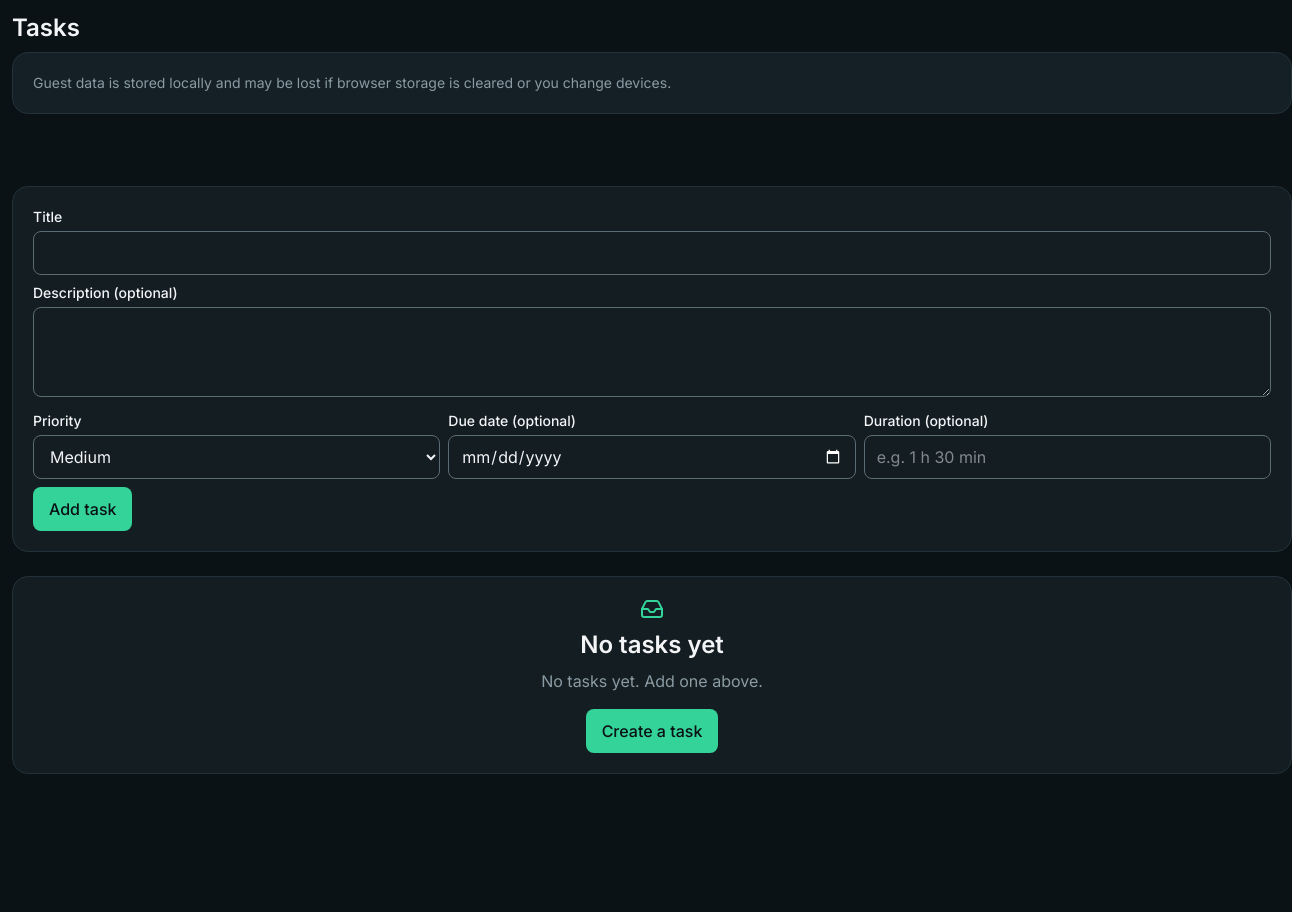
task completion › toggles a task to completed, preserves metadata, and announces it
The width and height of the screenshot is (1292, 912).
In the field labelled "Title": coordinates (652, 253) [33,231,1271,275], type "Complete me"
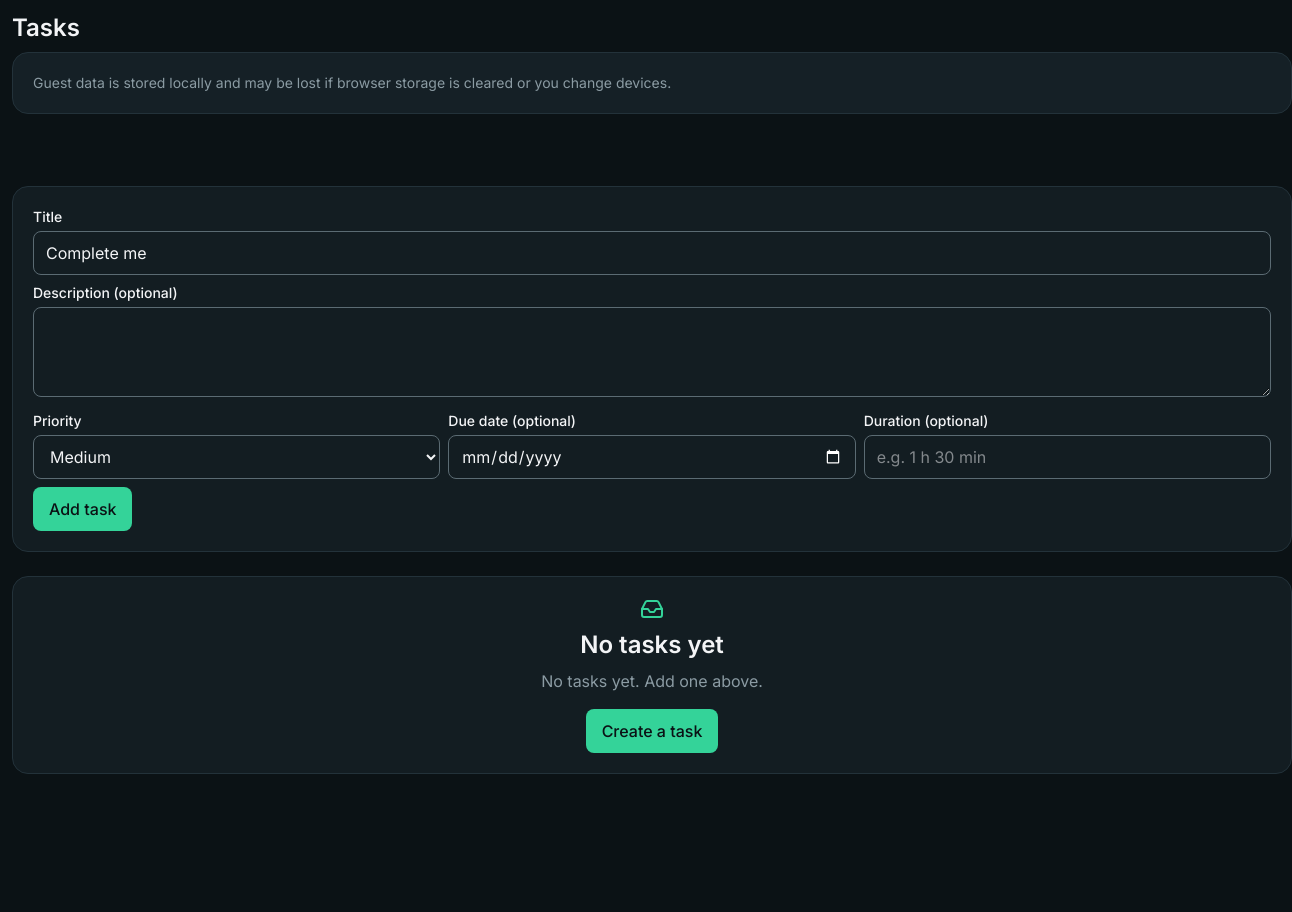
In the text box labelled "Description (optional)": coordinates (652, 352) [33,307,1271,397], type "Keep this description"
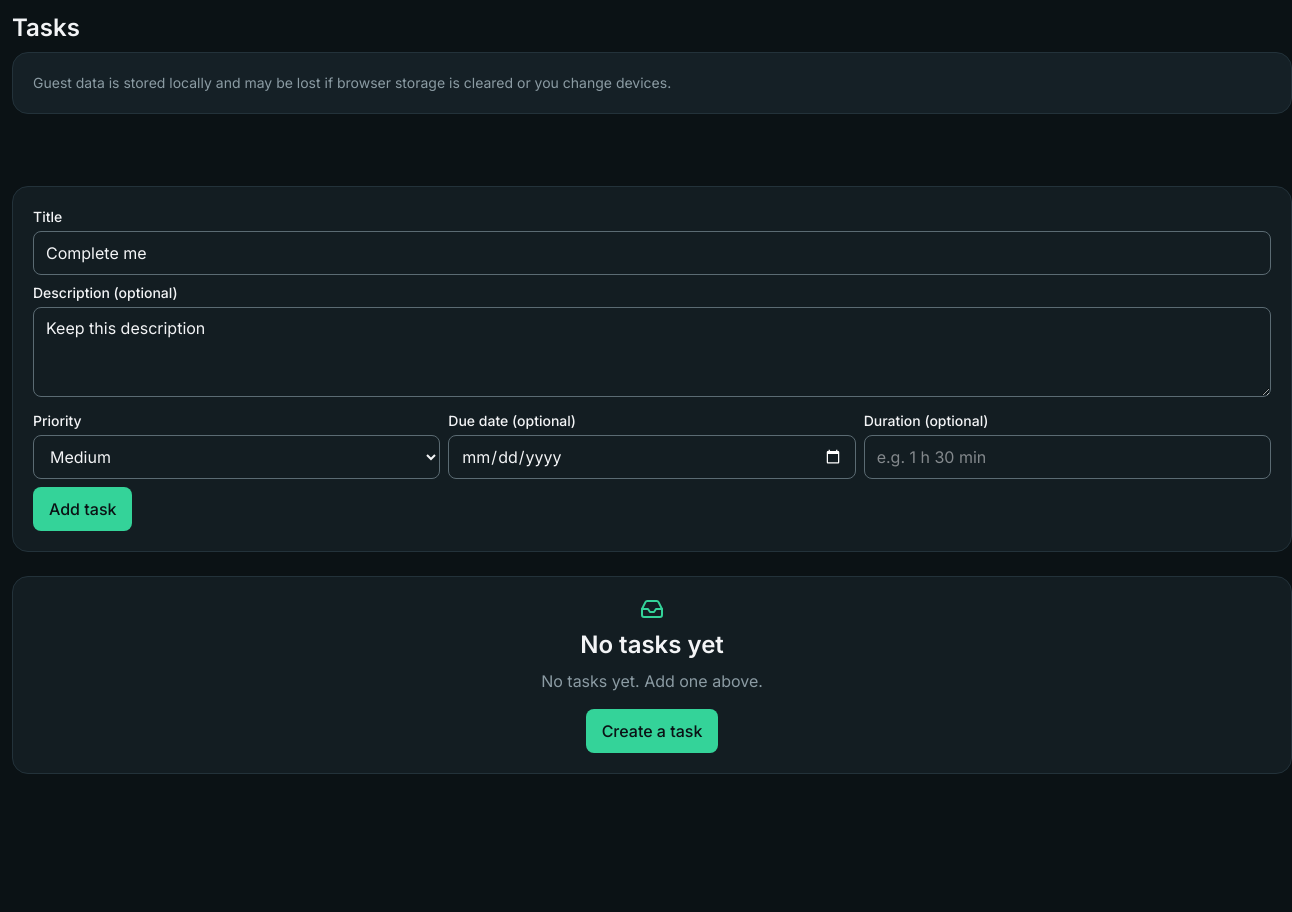
Select "High" in the dropdown labelled "Priority": coordinates (237, 457) [33,435,440,479]
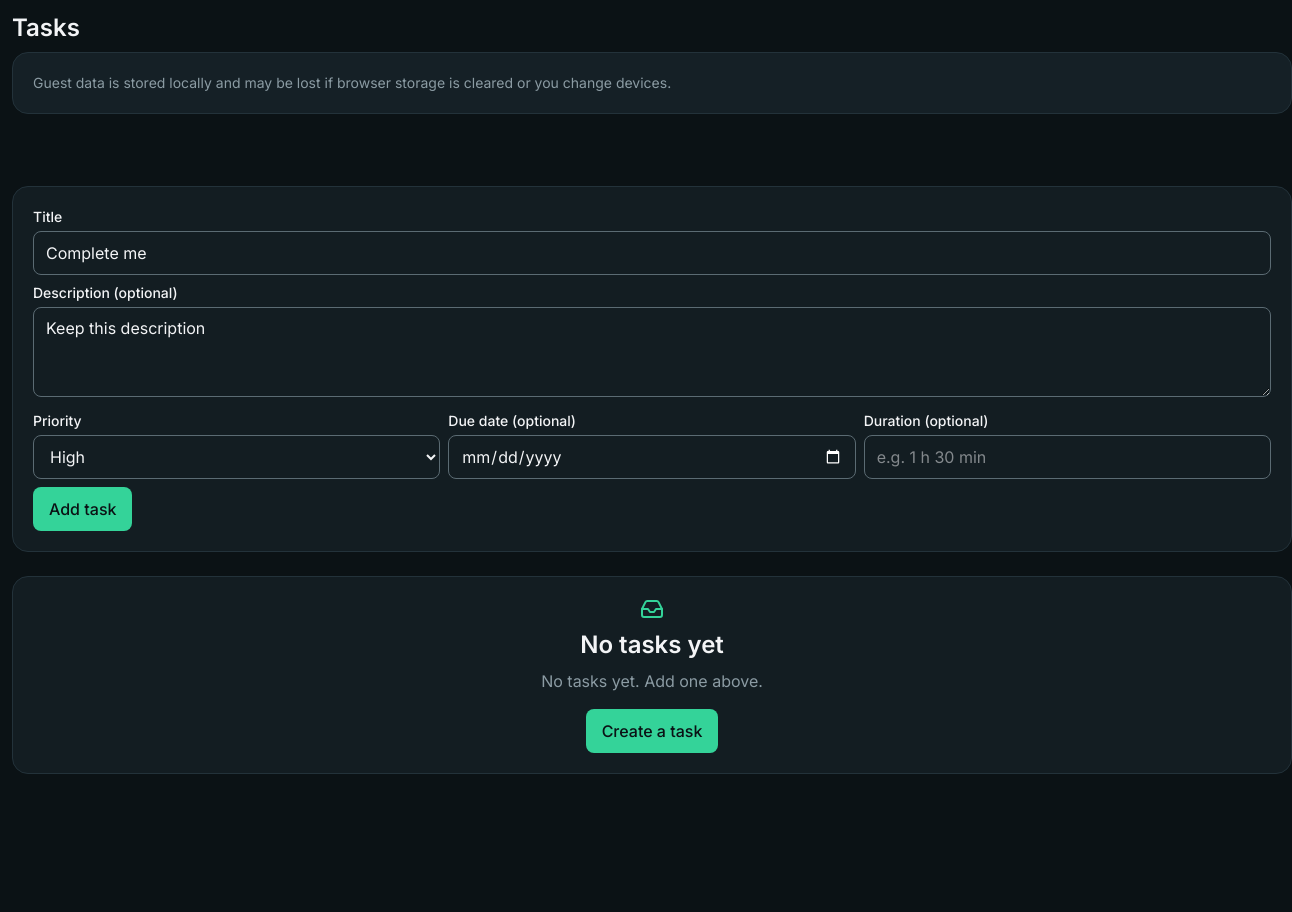
In the field labelled "Duration (optional)": coordinates (1067, 457) [864,435,1271,479], type "30 min"
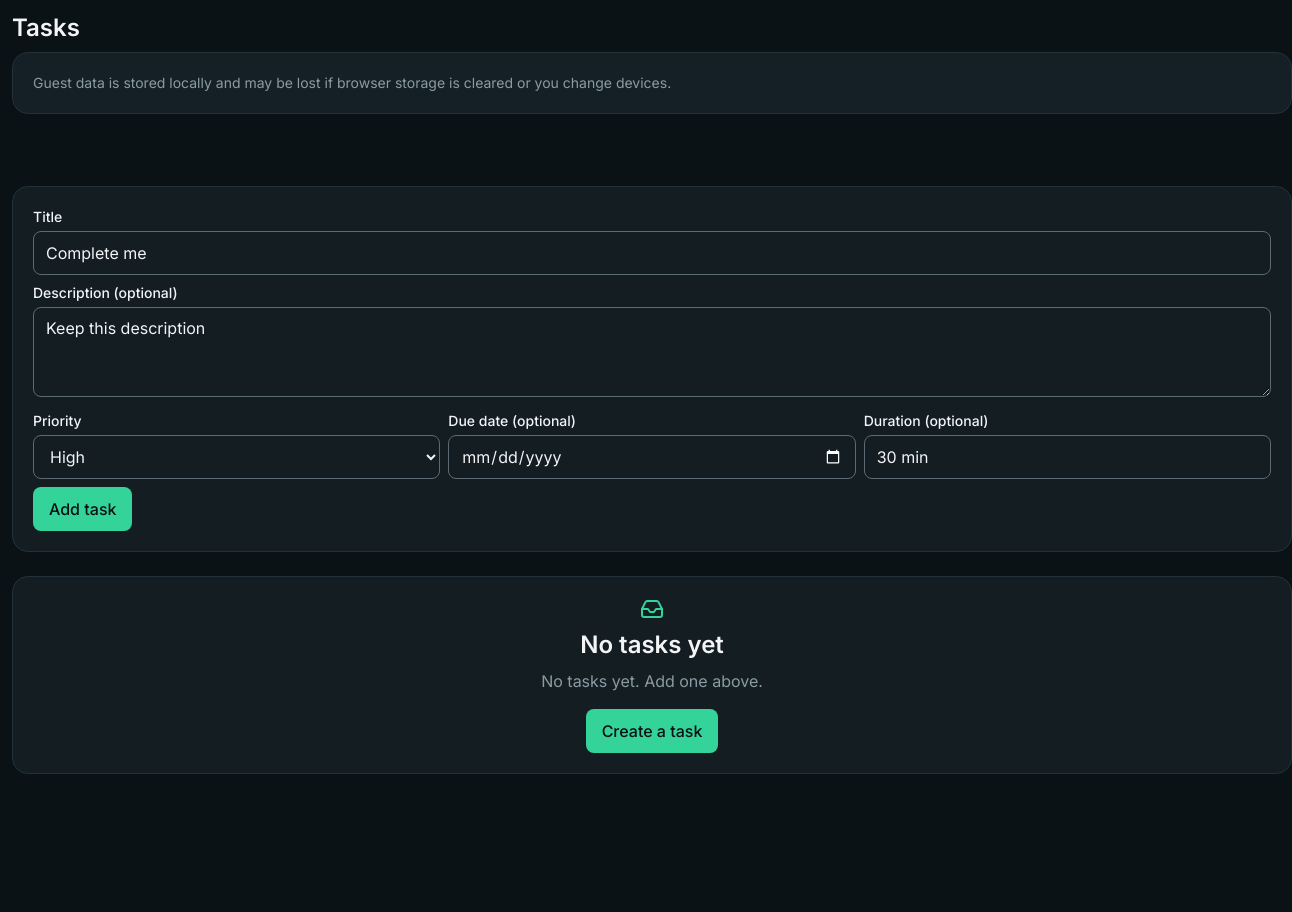
Click the button "Add task": coordinates (83, 509) [33,487,132,531]
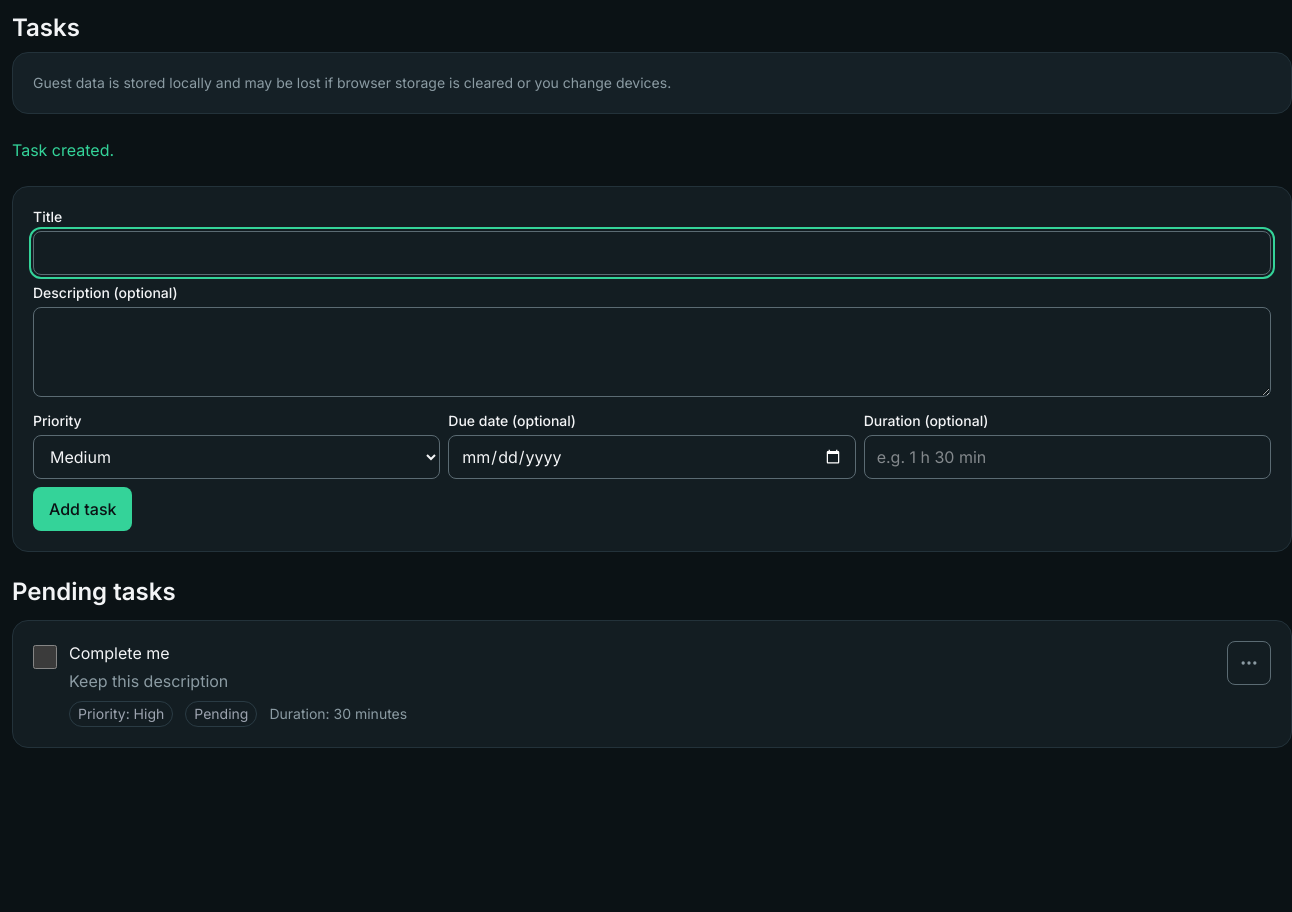
Check: the text "Complete me" is shown, box [69,643,170,663]
Click the checkbox named "Mark Complete me complete": coordinates (45, 657) [33,645,57,669]
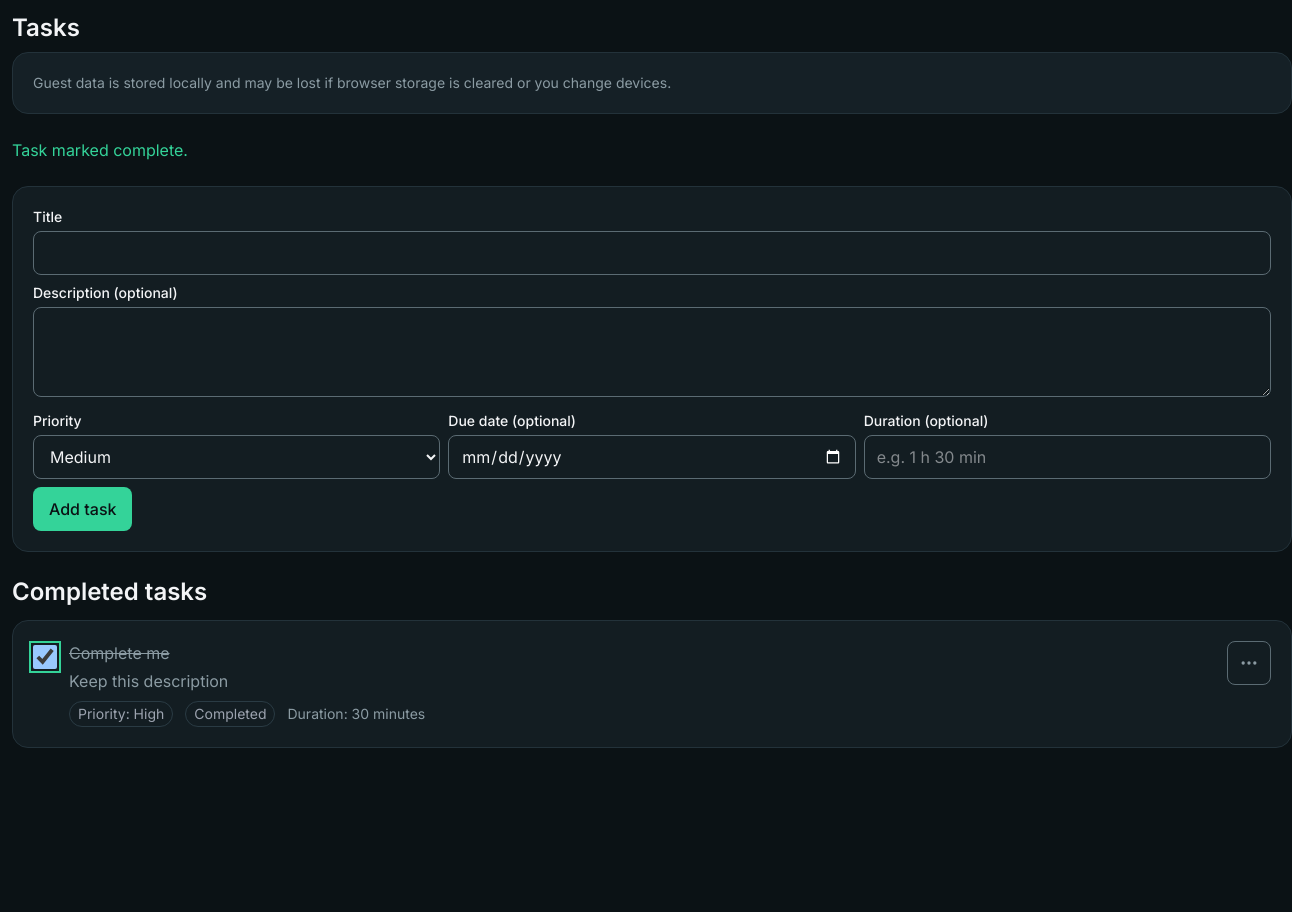
Check: the text "Keep this description" is shown, box [69,671,228,691]
Check: the checkbox named "Mark Complete me pending" is checked, box [33,645,57,669]
Check: the heading "Completed tasks" is shown, box [12,577,207,606]
